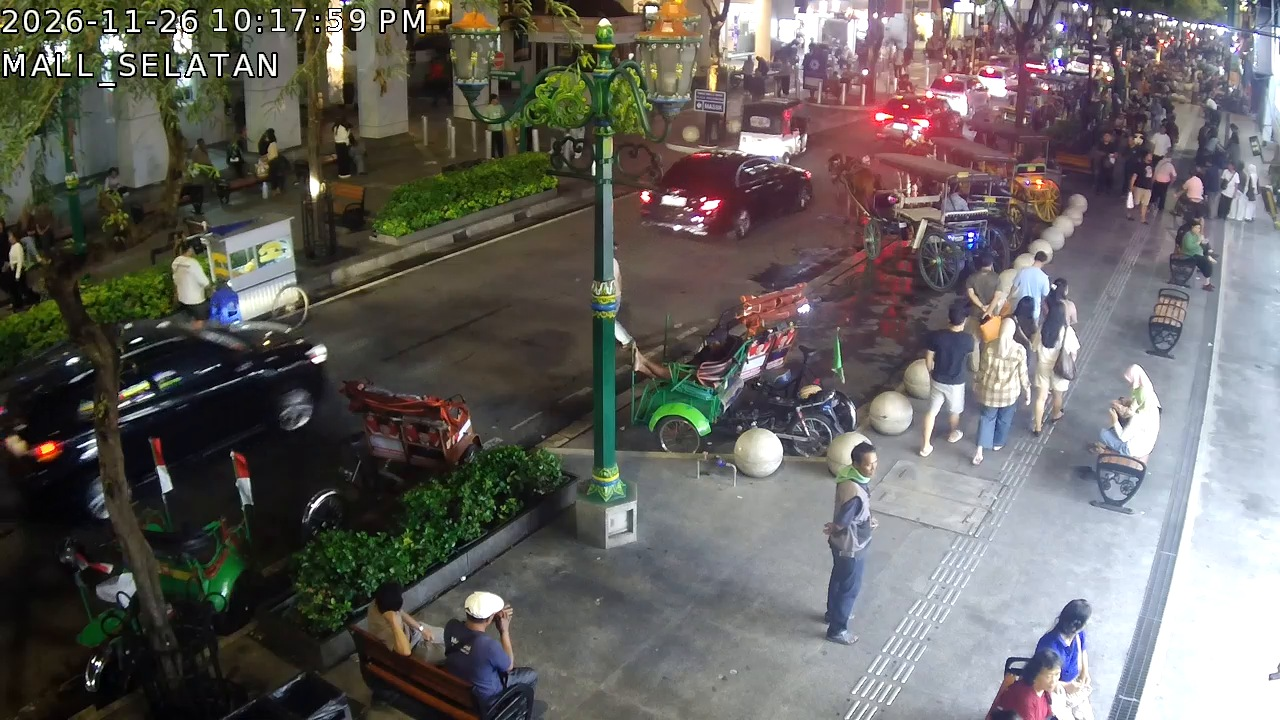Gerobak: (201, 216, 303, 326)
